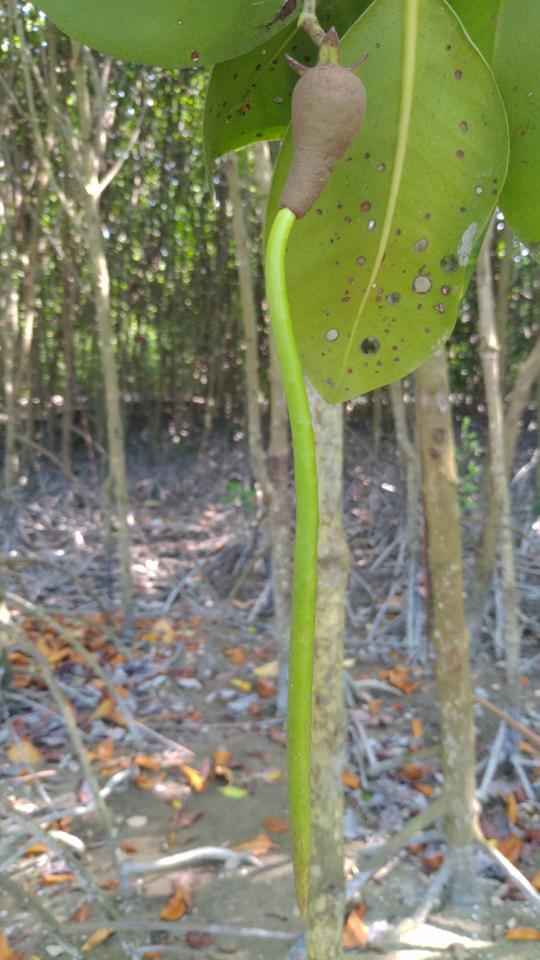mentah: (243, 33, 380, 923)
